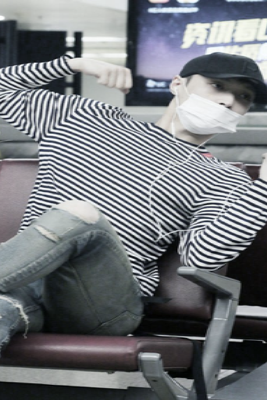mask_weared_incorrect: (180, 77, 254, 133)
